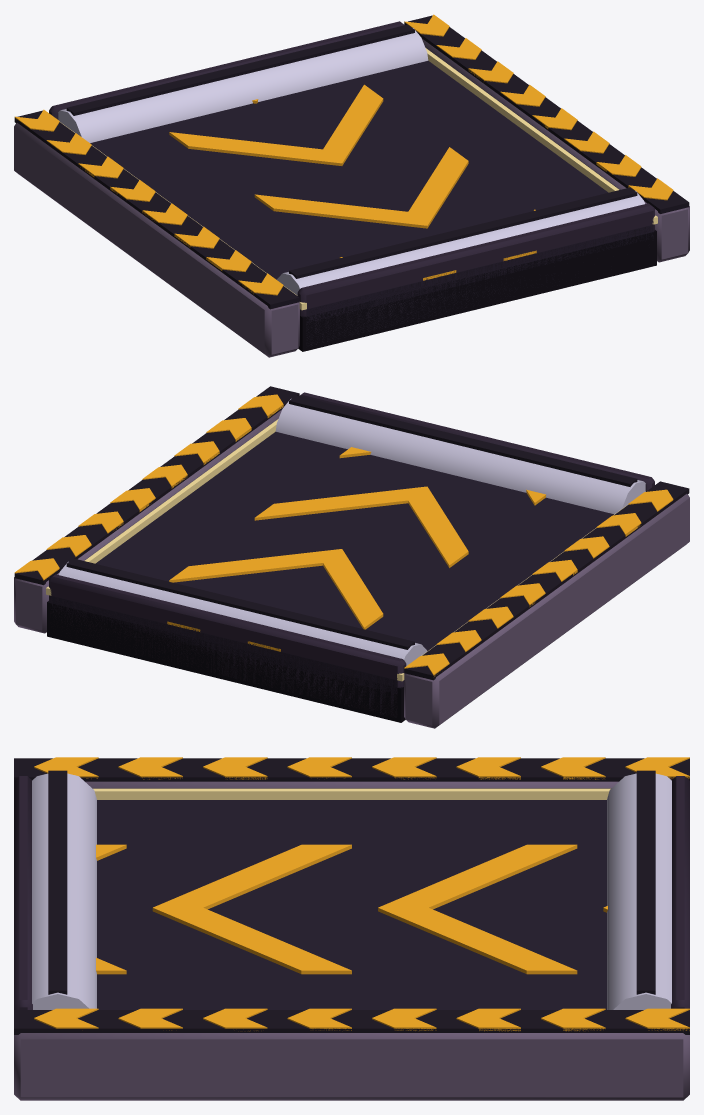
The model's file is trap_conveyor__lower.glb.
3 views of the same model, one above another, from view 1: azimuth 30°, elevation 25°; view 2: azimuth 150°, elevation 25°; view 3: azimuth 270°, elevation 25° (orthographic). The views are drawn at different scales.
Visible parts, largest first — view 1: Belt, Frame, Roller_Back, Roller_Front, End_Front, Arrows, End_Back; view 2: Belt, Frame, Roller_Front, End_Back, Arrows, Roller_Back, End_Front; view 3: Belt, Frame, Arrows, Roller_Back, Roller_Front, End_Front, End_Back.
Part boxes in pixels (<box>): Belt: <box>90,60,653,323</box>; Frame: <box>14,14,689,357</box>; Roller_Back: <box>58,24,428,142</box>; Roller_Front: <box>276,187,650,321</box>; End_Front: <box>297,203,654,345</box>; Arrows: <box>169,84,536,280</box>; End_Back: <box>49,21,404,119</box>; Belt: <box>50,431,613,694</box>; Frame: <box>14,386,689,728</box>; Roller_Front: <box>275,395,645,514</box>; End_Back: <box>49,574,406,717</box>; Arrows: <box>167,447,546,651</box>; Roller_Back: <box>55,558,427,692</box>; End_Front: <box>299,392,654,491</box>; Belt: <box>97,800,606,1009</box>; Frame: <box>14,757,689,1100</box>; Arrows: <box>96,844,607,974</box>; Roller_Back: <box>607,770,671,1009</box>; Roller_Front: <box>32,770,96,1009</box>; End_Front: <box>14,776,32,1009</box>; End_Back: <box>671,776,689,1008</box>.
Size of the model in its own units: 0.96 by 0.14 by 1.
